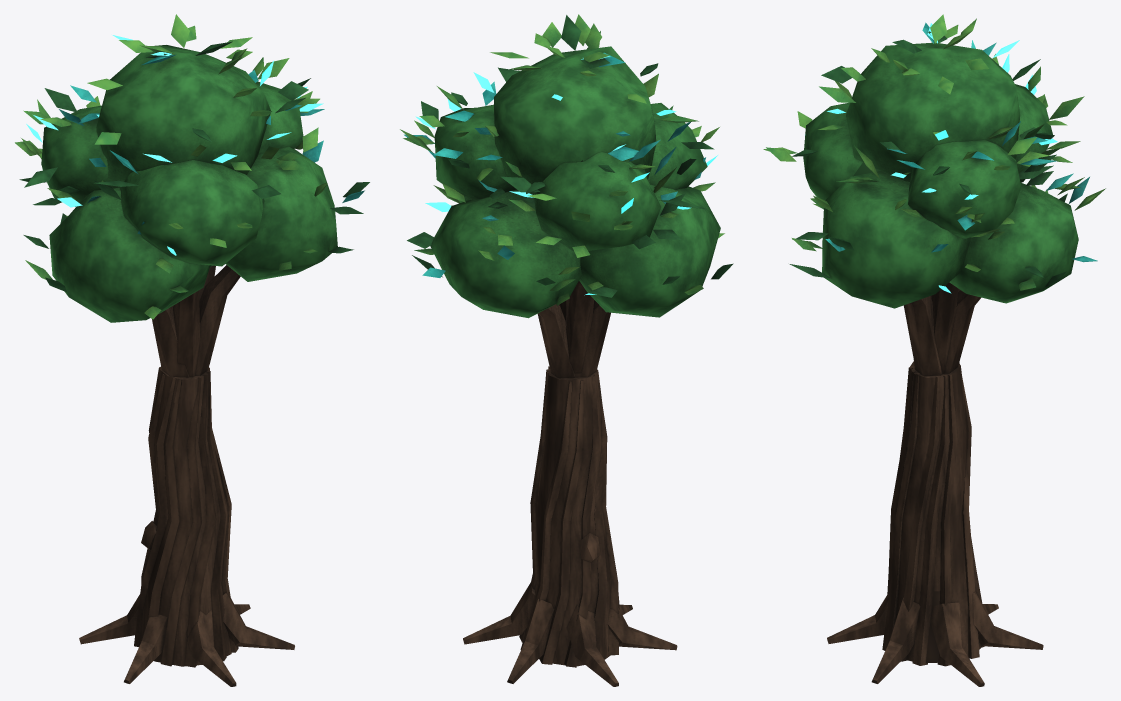
Rendered from arbol_roble_espacial.fbx.
The picture shows the model from 3 angles, left to right: view 1: azimuth 30°, elevation 25°; view 2: azimuth 150°, elevation 25°; view 3: azimuth 270°, elevation 25°; orthographic projection.
Parts seen in each view (by area): view 1: arbol_roble_espacial, arbol_roble_espacial_neon; view 2: arbol_roble_espacial, arbol_roble_espacial_neon; view 3: arbol_roble_espacial, arbol_roble_espacial_neon.
Part boxes in pixels (x1,y1,x2,y2): arbol_roble_espacial: [15, 14, 369, 686]; arbol_roble_espacial_neon: [26, 35, 323, 255]; arbol_roble_espacial: [400, 14, 733, 686]; arbol_roble_espacial_neon: [415, 56, 717, 295]; arbol_roble_espacial: [763, 14, 1105, 686]; arbol_roble_espacial_neon: [805, 23, 1057, 293].
Bounding box in the file's own units: 6.93 × 13.32 × 6.72.
2 materials, 2 textured.
